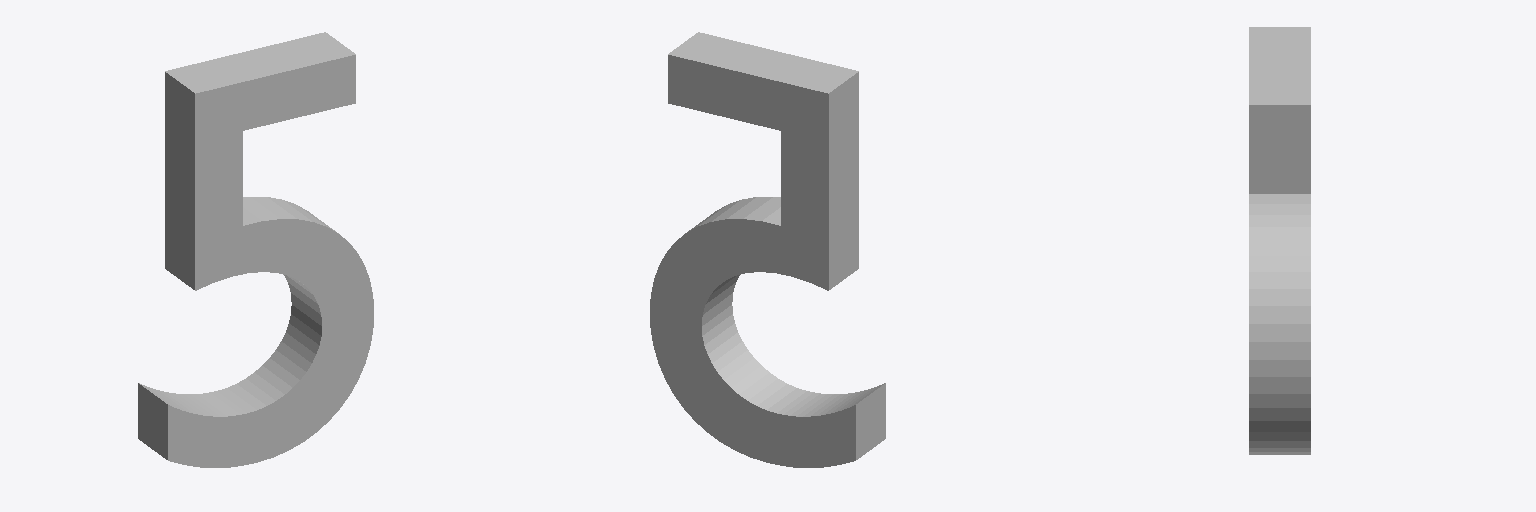
3 renders of one model, left to right at view 1: azimuth 30°, elevation 25°; view 2: azimuth 150°, elevation 25°; view 3: azimuth 270°, elevation 25°, orthographic.
Parts seen in each view (by area): view 1: Text.004_CUText.004; view 2: Text.004_CUText.004; view 3: Text.004_CUText.004.
Part boxes in pixels (x1,y1,x2,y2): Text.004_CUText.004: (138,32,373,467); Text.004_CUText.004: (650,32,885,467); Text.004_CUText.004: (1249,27,1310,454).
Size of the model in its own units: 0.388 by 0.691 by 0.1.